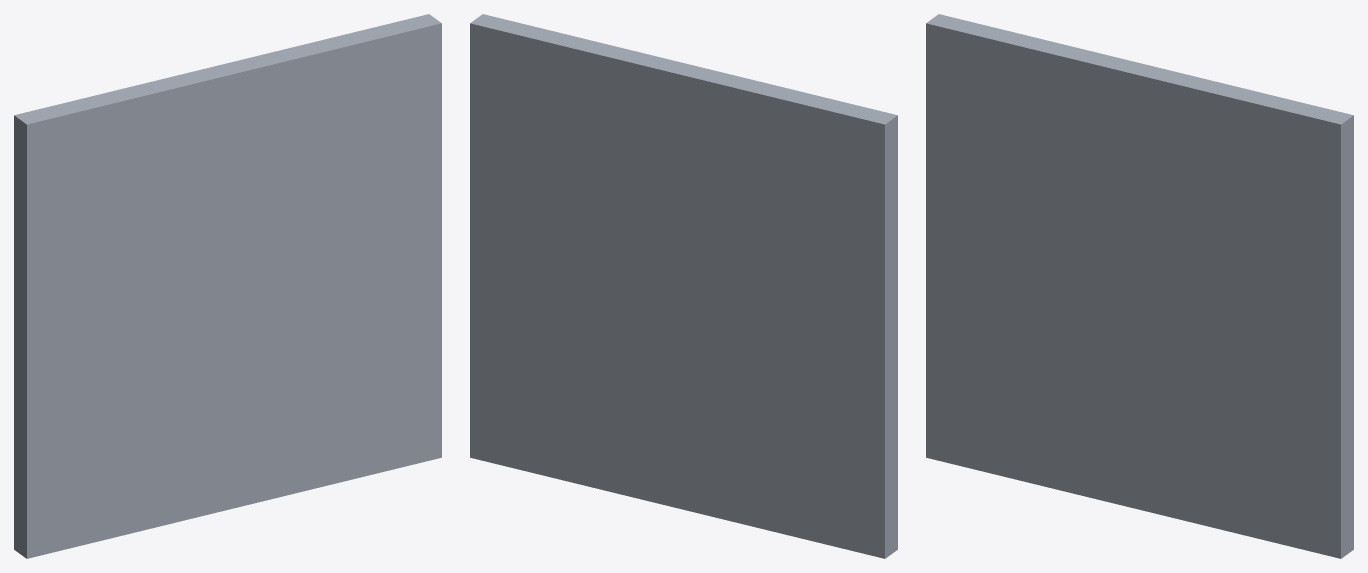
File: Kit_Steel_Wall_Fractured.fbx
3 views of the same model, side by side, from view 1: azimuth 30°, elevation 25°; view 2: azimuth 150°, elevation 25°; view 3: azimuth 330°, elevation 25° (orthographic).
Visible parts, largest first — view 1: Kit_Steel_Wall_frag_02, Kit_Steel_Wall_frag_05, Kit_Steel_Wall_frag_06, Kit_Steel_Wall_frag_04, Kit_Steel_Wall_frag_01, Kit_Steel_Wall_frag_03; view 2: Kit_Steel_Wall_frag_02, Kit_Steel_Wall_frag_05, Kit_Steel_Wall_frag_06, Kit_Steel_Wall_frag_01, Kit_Steel_Wall_frag_04, Kit_Steel_Wall_frag_03; view 3: Kit_Steel_Wall_frag_05, Kit_Steel_Wall_frag_02, Kit_Steel_Wall_frag_06, Kit_Steel_Wall_frag_04, Kit_Steel_Wall_frag_01, Kit_Steel_Wall_frag_03.
Part boxes in pixels (<box>): Kit_Steel_Wall_frag_02: <box>14,85,180,381</box>; Kit_Steel_Wall_frag_05: <box>248,222,441,482</box>; Kit_Steel_Wall_frag_06: <box>272,14,441,248</box>; Kit_Steel_Wall_frag_04: <box>136,52,293,311</box>; Kit_Steel_Wall_frag_01: <box>14,343,199,558</box>; Kit_Steel_Wall_frag_03: <box>145,293,339,516</box>; Kit_Steel_Wall_frag_02: <box>731,86,897,381</box>; Kit_Steel_Wall_frag_05: <box>470,222,664,482</box>; Kit_Steel_Wall_frag_06: <box>470,14,639,248</box>; Kit_Steel_Wall_frag_01: <box>711,343,897,558</box>; Kit_Steel_Wall_frag_04: <box>618,52,776,311</box>; Kit_Steel_Wall_frag_03: <box>572,293,766,516</box>; Kit_Steel_Wall_frag_05: <box>1147,278,1353,558</box>; Kit_Steel_Wall_frag_02: <box>926,14,1079,298</box>; Kit_Steel_Wall_frag_06: <box>1184,77,1353,323</box>; Kit_Steel_Wall_frag_04: <box>1047,43,1196,299</box>; Kit_Steel_Wall_frag_01: <box>926,280,1098,499</box>; Kit_Steel_Wall_frag_03: <box>1044,285,1238,533</box>.
Size of what is drawn, in the model's own units: 3 by 3 by 0.16.
Materials: 2 (2 with a texture image).
